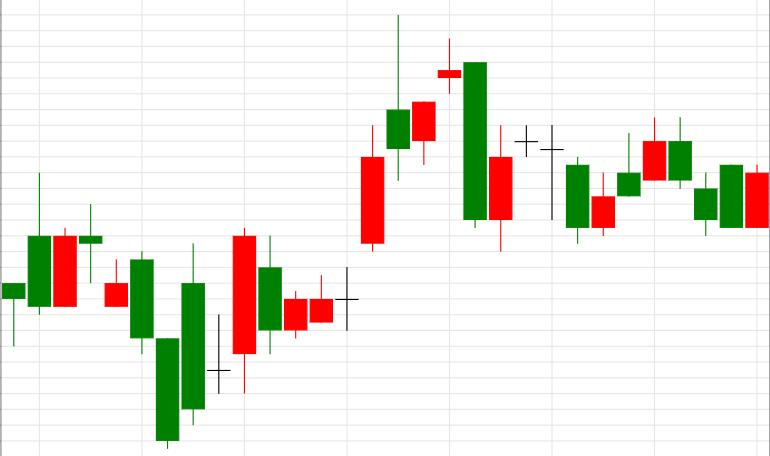shooting_star_fall: (284, 14, 410, 340)
